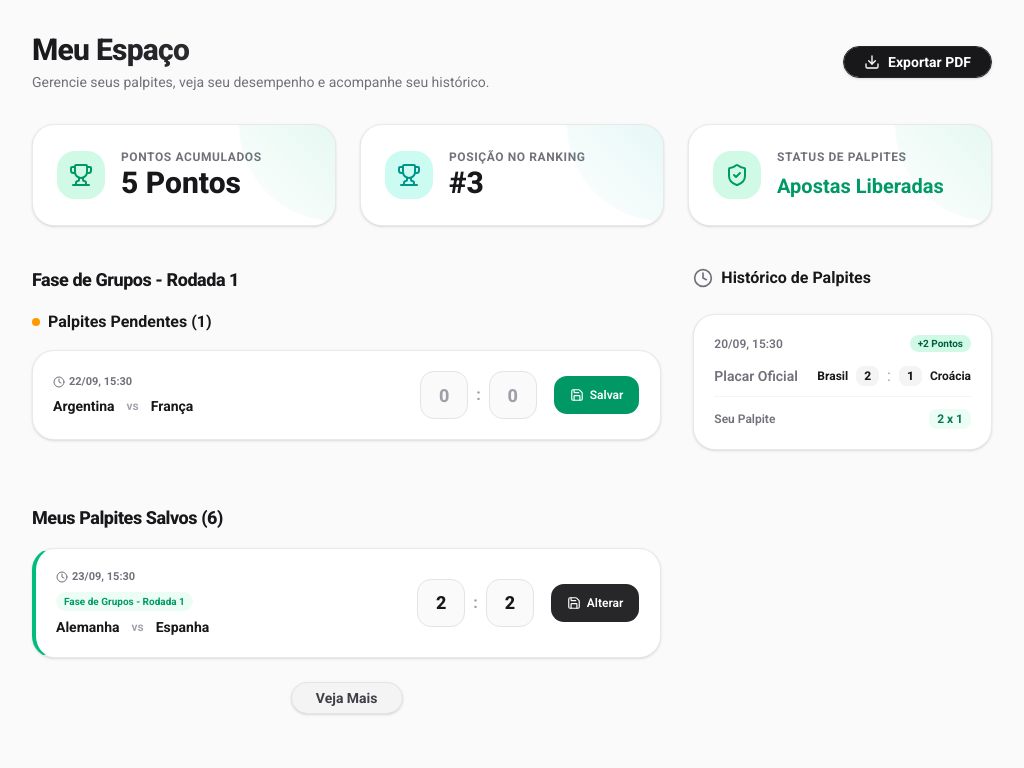
DashboardPalpites Component › deve exibir o botão "Veja Mais" se houver mais palpites salvos no banco e carregar mais ao clicar
The width and height of the screenshot is (1024, 768).
What coordinates should you click on to do the following:
click the button "Veja Mais"
I would click on:
 (347, 698)
Its box is [291,682,402,714].
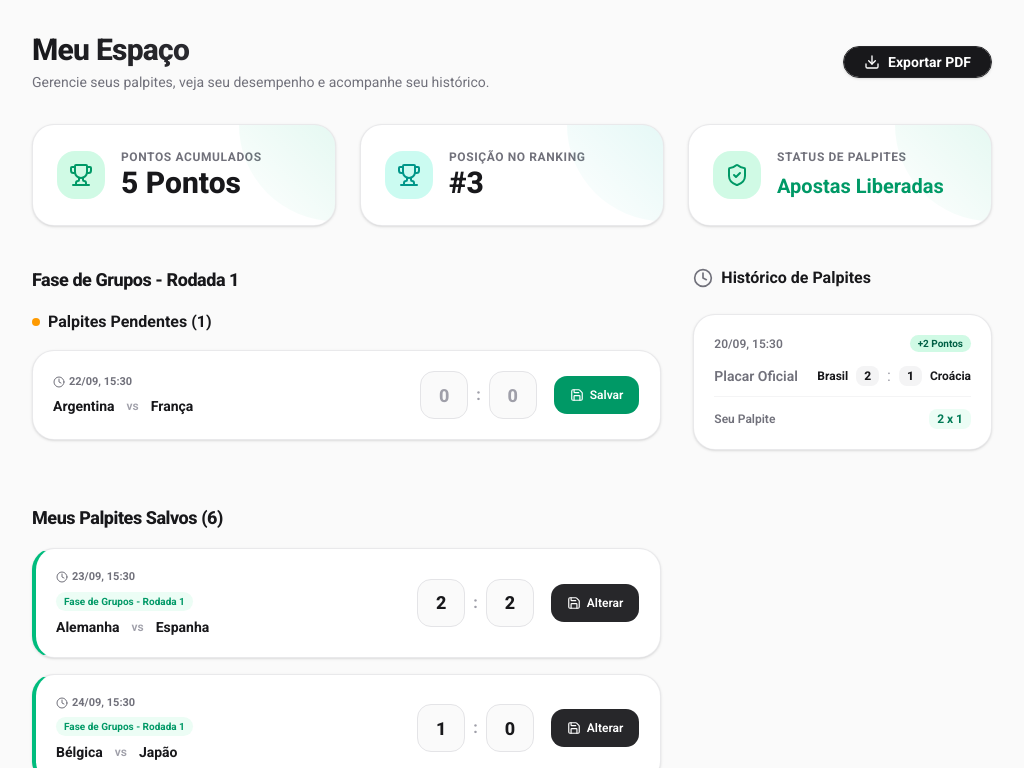
Expected: the text "Bélgica" is shown, [56,742,103,762]
Expected: the text "Japão" is shown, [139,742,178,762]
